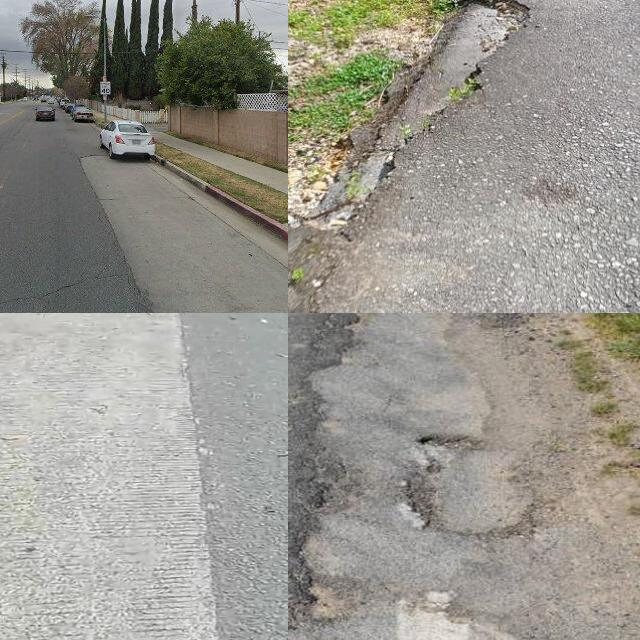Pinggir: (288, 0, 603, 313), (288, 313, 548, 640)
Sambungan: (0, 313, 217, 640), (79, 153, 288, 313)
